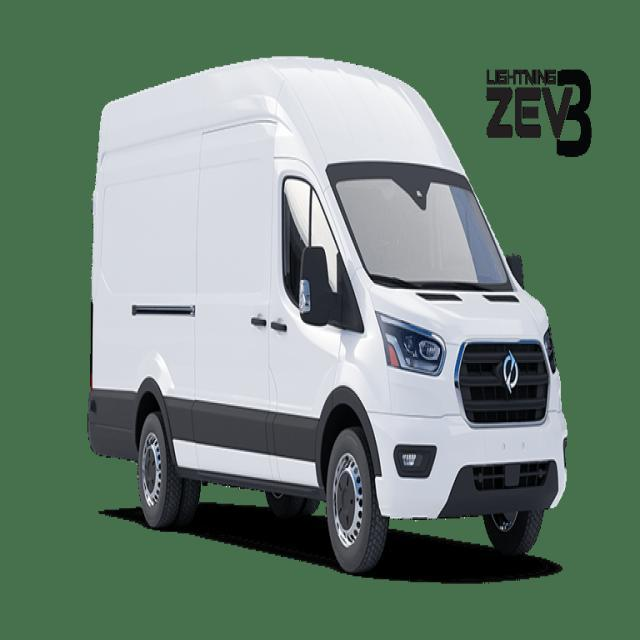truck: (86, 53, 568, 575)
